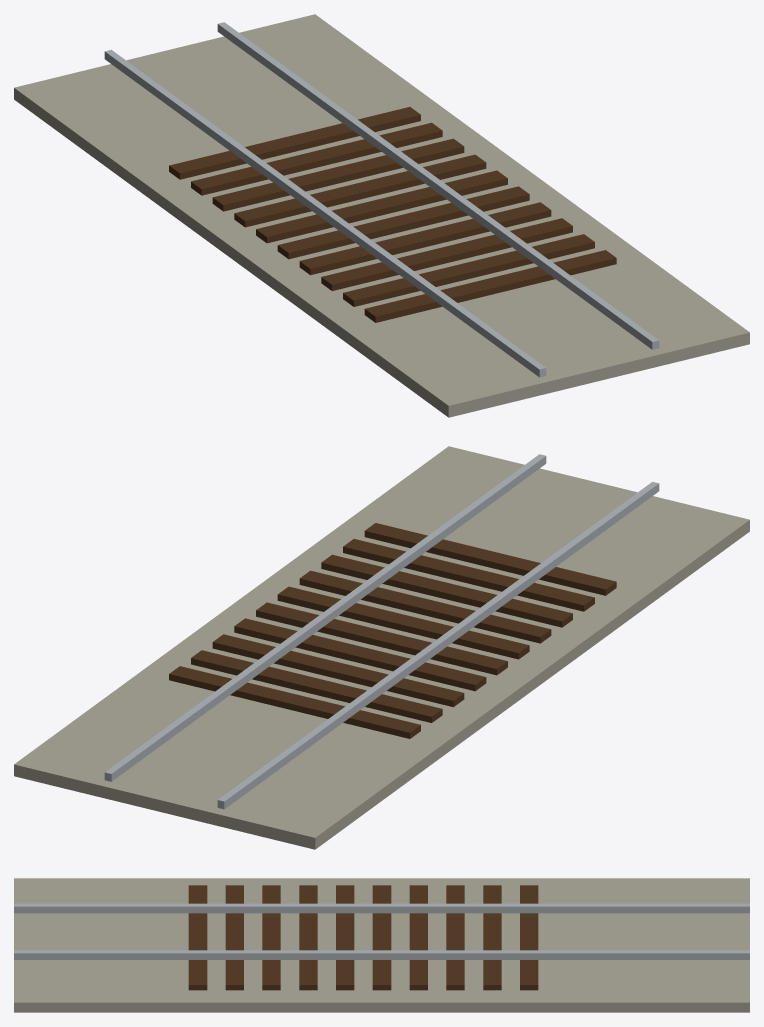
The model's file is road.rail-track.glb.
3 renders of one model, top to bottom at view 1: azimuth 30°, elevation 25°; view 2: azimuth 150°, elevation 25°; view 3: azimuth 270°, elevation 25°, orthographic. The views are drawn at different scales.
Visible parts, largest first — view 1: road.rail-track; view 2: road.rail-track; view 3: road.rail-track.
Part boxes in pixels (<box>): road.rail-track: <box>14,14,749,417</box>; road.rail-track: <box>14,446,749,849</box>; road.rail-track: <box>14,878,749,1012</box>.
Size of the model in its own units: 4 by 0.33 by 10.
